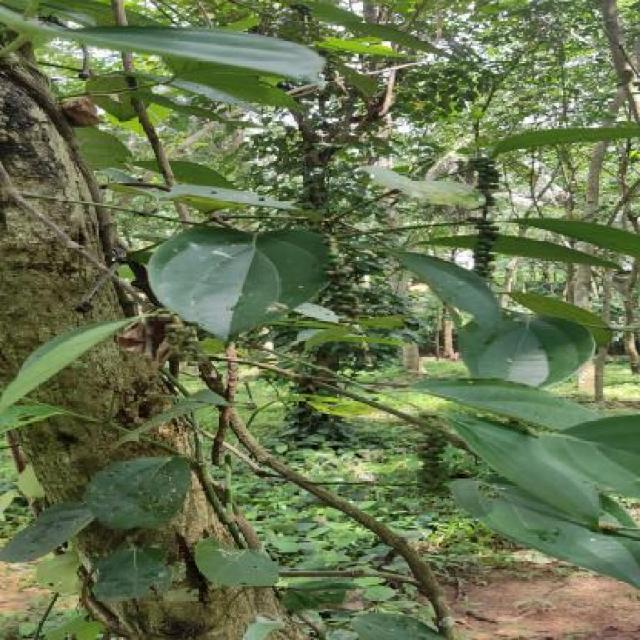UNRIPE: (326, 253, 363, 321), (160, 309, 200, 360), (471, 216, 502, 275), (416, 437, 450, 485), (476, 159, 502, 210)
